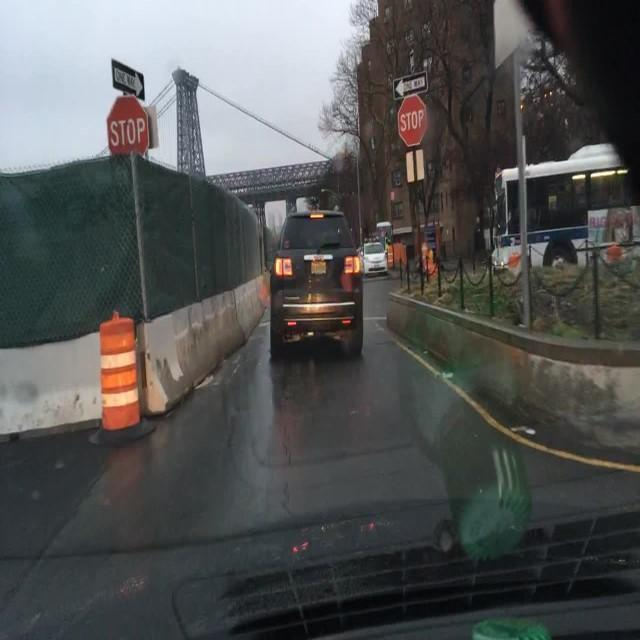normal: (249, 190, 382, 380)
